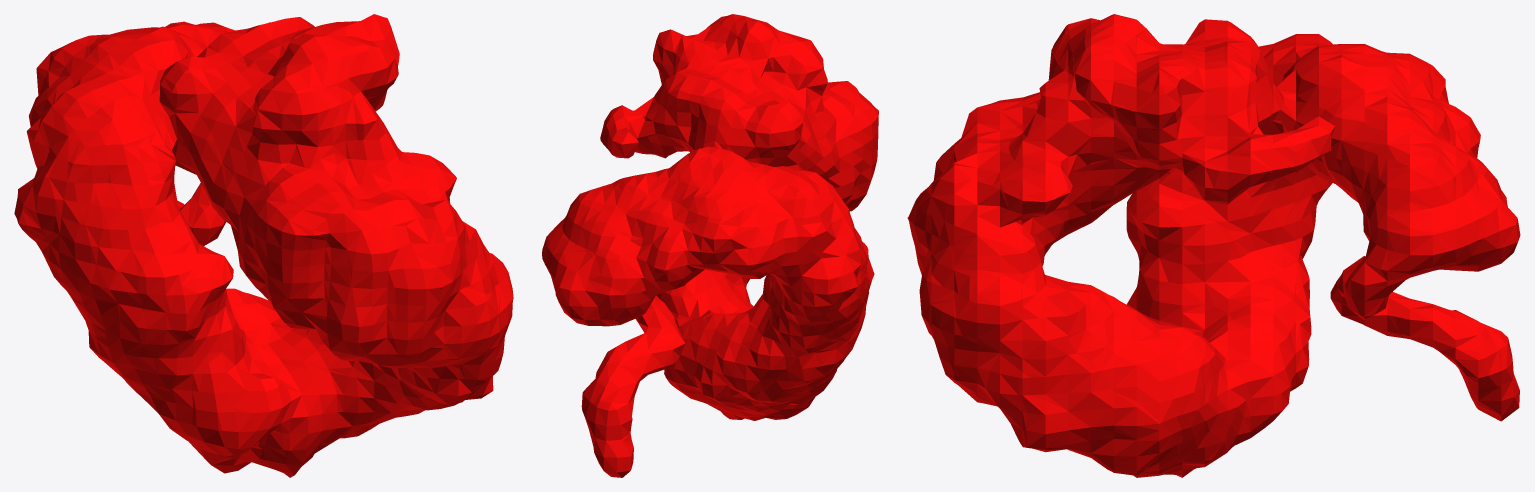
File: mscK_coarse.dae
3 renders of one model, left to right at view 1: azimuth 30°, elevation 25°; view 2: azimuth 150°, elevation 25°; view 3: azimuth 270°, elevation 25°, orthographic. The views are drawn at different scales.
Parts seen in each view (by area): view 1: mscK; view 2: mscK; view 3: mscK.
Part boxes in pixels (<box>): mscK: <box>14,14,513,477</box>; mscK: <box>542,14,878,477</box>; mscK: <box>907,14,1520,477</box>.
Bounding box in the file's own units: 85.92 × 105 × 126.
